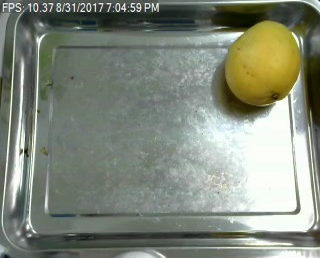Mango: (223, 20, 302, 106)
